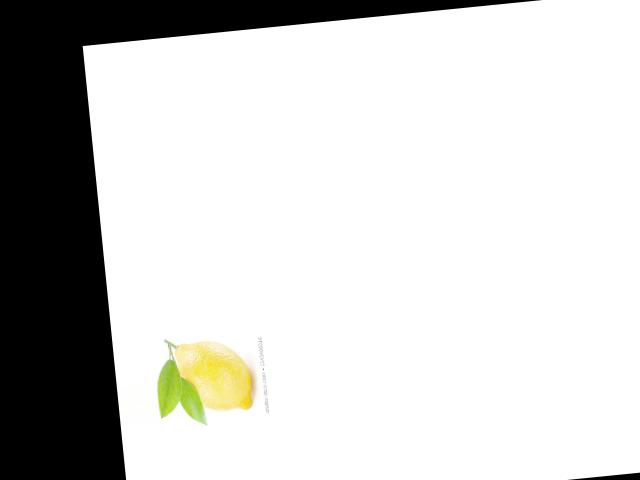lemon: (162, 332, 257, 424)
